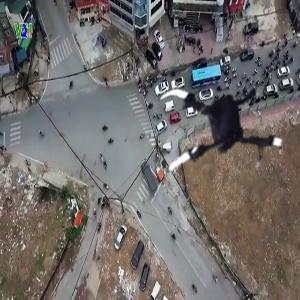drone: (151, 55, 299, 203)
